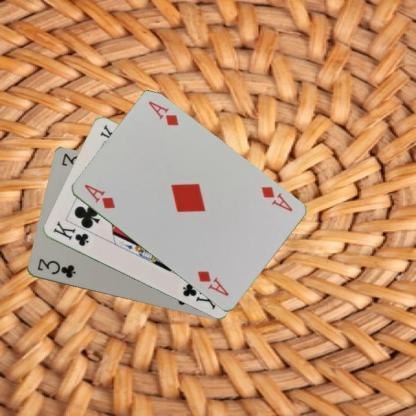3c: (35, 256, 77, 280)
Ad: (258, 184, 294, 214), (81, 182, 116, 210)
Kc: (51, 218, 90, 248)
